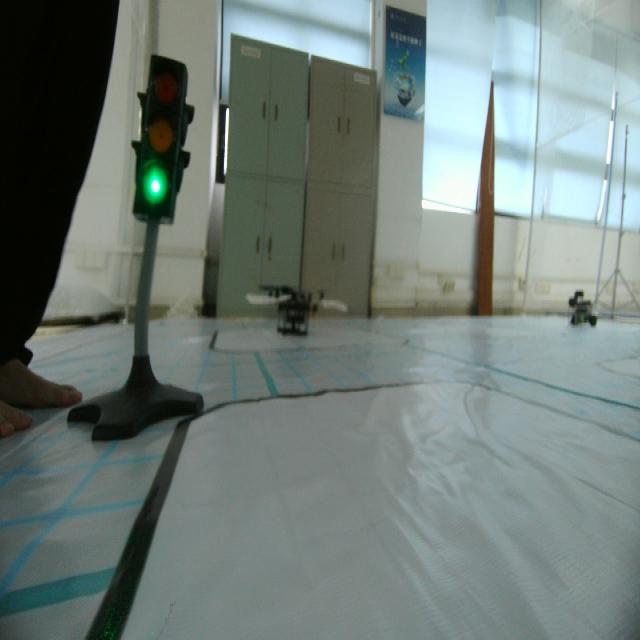green: (126, 46, 192, 236)
